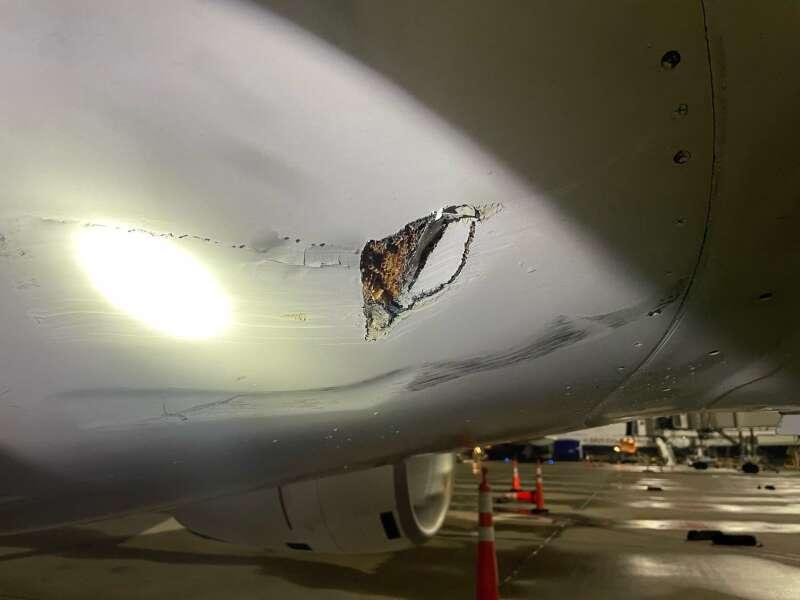Fuselage_damage: (330, 195, 511, 341)
